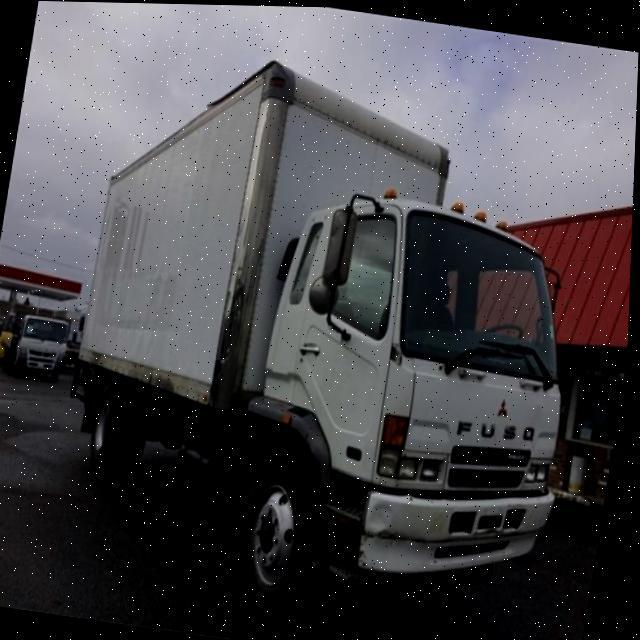truck: (47, 37, 616, 639)
